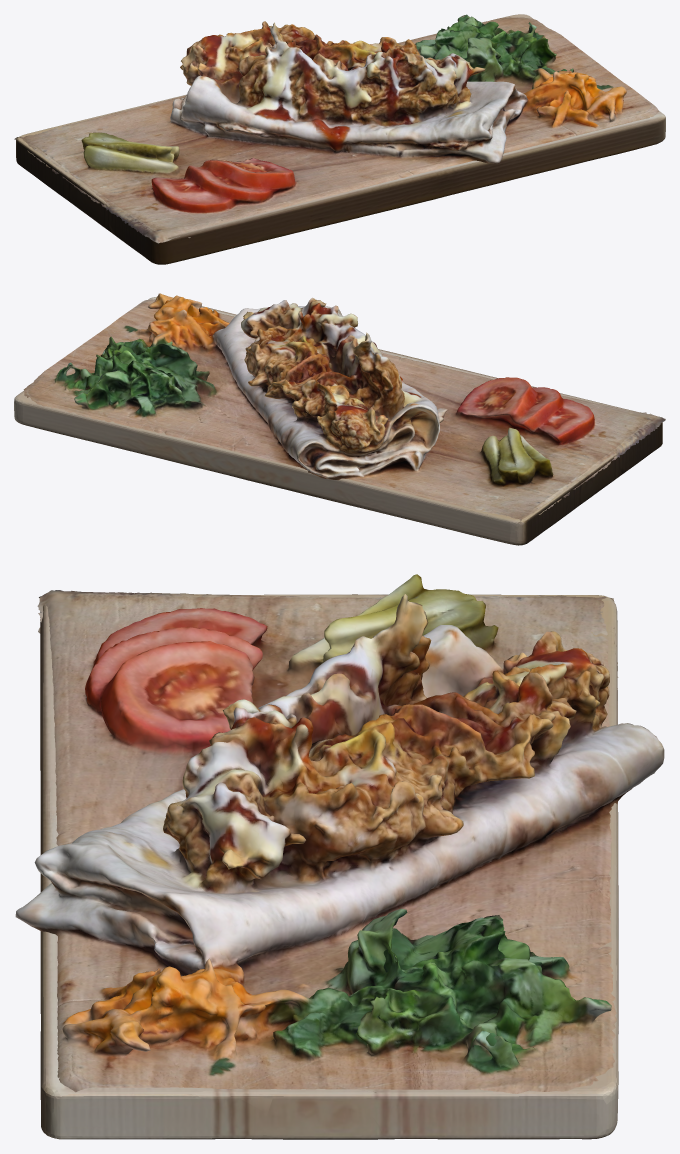
The model's file is strip.in.lavash.02.glb.
3 renders of one model, top to bottom at view 1: azimuth 30°, elevation 25°; view 2: azimuth 150°, elevation 25°; view 3: azimuth 270°, elevation 25°, orthographic. The views are drawn at different scales.
Parts seen in each view (by area): view 1: 3DModel.001, world.001; view 2: 3DModel.001, world.001; view 3: 3DModel.001, world.001.
Boxes of the visible parts, left/top/right/bottom form: 3DModel.001: left=14, top=14, right=658, bottom=243; world.001: left=16, top=14, right=665, bottom=264; 3DModel.001: left=23, top=293, right=665, bottom=525; world.001: left=14, top=297, right=662, bottom=545; 3DModel.001: left=15, top=574, right=664, bottom=1093; world.001: left=40, top=594, right=618, bottom=1139.
Size of the model in its own units: 0.5327 by 0.126 by 0.2905.
2 materials, 2 textured.
